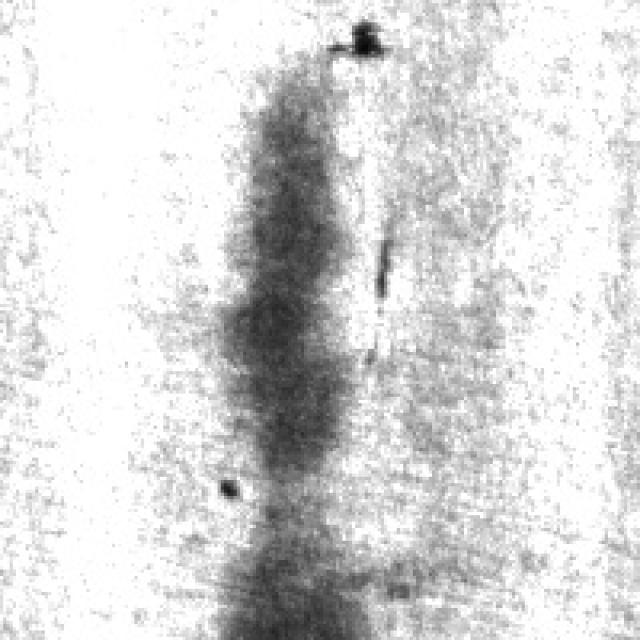patches: (230, 45, 365, 470), (221, 489, 381, 636)
